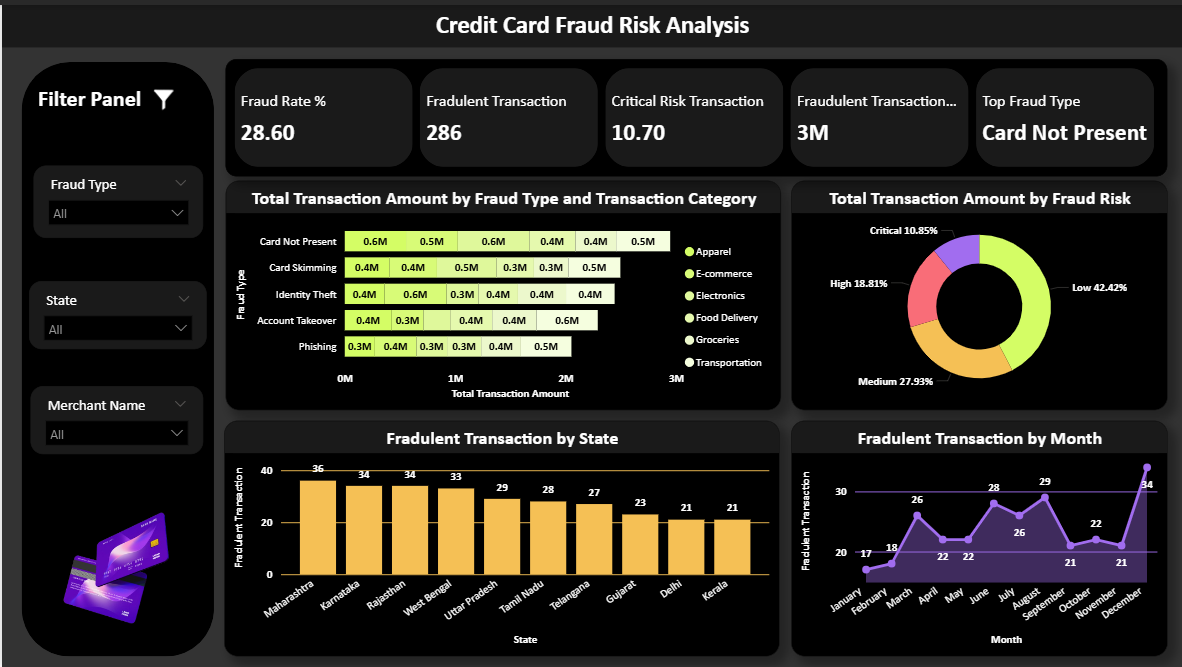

Layout of this report page (visuals, bound fields, positions):
{"tool":"powerbi","page":{"name":"Page 1","canvas":[1280,720],"ordinal":0},"visuals":[{"type":"textbox","box":[0,0,1280.6,46.3],"z":0},{"type":"shape","box":[20.9,61.2,209,644.8],"z":1000},{"type":"textbox","box":[34.3,80.6,141.8,46.3],"z":2000},{"type":"image","box":[144.8,80.6,61.2,43.3],"z":3000},{"type":"barChart","fields":{"Y":["Credit Card Fraud Risk Analysis.Total Transaction Amount"],"Category":["Credit Card Fraud Risk Analysis.Fraud Type"],"Series":["Credit Card Fraud Risk Analysis.Transaction Category"]},"box":[241.8,191,603,249.3],"z":4000},{"type":"donutChart","fields":{"Y":["Credit Card Fraud Risk Analysis.Total Transaction Amount"],"Category":["Credit Card Fraud Risk Analysis.Fraud Risk"]},"box":[855.2,191,409,249.3],"z":5000},{"type":"columnChart","fields":{"Category":["Credit Card Fraud Risk Analysis.State"],"Y":["Credit Card Fraud Risk Analysis.Fradulent Transaction"]},"box":[241.4,450,602.9,255.7],"z":6000},{"type":"lineChart","fields":{"Y":["Credit Card Fraud Risk Analysis.Fradulent Transaction"],"Category":["Credit Card Fraud Risk Analysis.Transaction Date.Variation.Date Hierarchy.Month"]},"box":[855.7,450,408.6,255.7],"z":7000},{"type":"slicer","fields":{"Values":["Credit Card Fraud Risk Analysis.Fraud Type"]},"box":[34.3,174.3,184.3,78.6],"z":8000},{"type":"slicer","fields":{"Values":["Credit Card Fraud Risk Analysis.State"]},"box":[30,298.6,192.9,74.3],"z":9000},{"type":"slicer","fields":{"Values":["Credit Card Fraud Risk Analysis.Merchant Name"]},"box":[31.4,412.9,187.1,74.3],"z":10000},{"type":"image","box":[0,530,191.4,162.9],"z":11000},{"type":"cardVisual","fields":{"Data":["Credit Card Fraud Risk Analysis.Fraud Rate %","Credit Card Fraud Risk Analysis.Fradulent Transaction","Credit Card Fraud Risk Analysis.Critical Risk Transaction","Credit Card Fraud Risk Analysis.Fraudulent Transaction Amount","Credit Card Fraud Risk Analysis.Top Fraud Type"]},"box":[242.9,58.6,1021.4,127.1],"z":12000}]}

Visuals, with their boxes in screenshot pixels (x1, y1, x2, y2), scaled from the page's 1280x720 canvas onto the 1182x667 screenshot:
textbox: box(0, 0, 1181, 43)
shape: box(19, 57, 212, 654)
textbox: box(32, 75, 163, 118)
image: box(134, 75, 190, 115)
barChart - Credit Card Fraud Risk Analysis.Total Transaction Amount x Credit Card Fraud Risk Analysis.Fraud Type: box(223, 177, 780, 408)
donutChart - Credit Card Fraud Risk Analysis.Total Transaction Amount x Credit Card Fraud Risk Analysis.Fraud Risk: box(790, 177, 1167, 408)
columnChart - Credit Card Fraud Risk Analysis.State x Credit Card Fraud Risk Analysis.Fradulent Transaction: box(223, 417, 780, 654)
lineChart - Credit Card Fraud Risk Analysis.Fradulent Transaction x Credit Card Fraud Risk Analysis.Transaction Date.Variation.Date Hierarchy.Month: box(790, 417, 1168, 654)
slicer - Credit Card Fraud Risk Analysis.Fraud Type: box(32, 161, 202, 234)
slicer - Credit Card Fraud Risk Analysis.State: box(28, 277, 206, 345)
slicer - Credit Card Fraud Risk Analysis.Merchant Name: box(29, 383, 202, 451)
image: box(0, 491, 177, 642)
cardVisual - Credit Card Fraud Risk Analysis.Fraud Rate % x Credit Card Fraud Risk Analysis.Fradulent Transaction: box(224, 54, 1168, 172)
